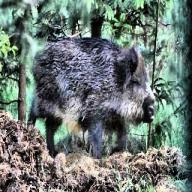boar: (26, 34, 156, 160)
